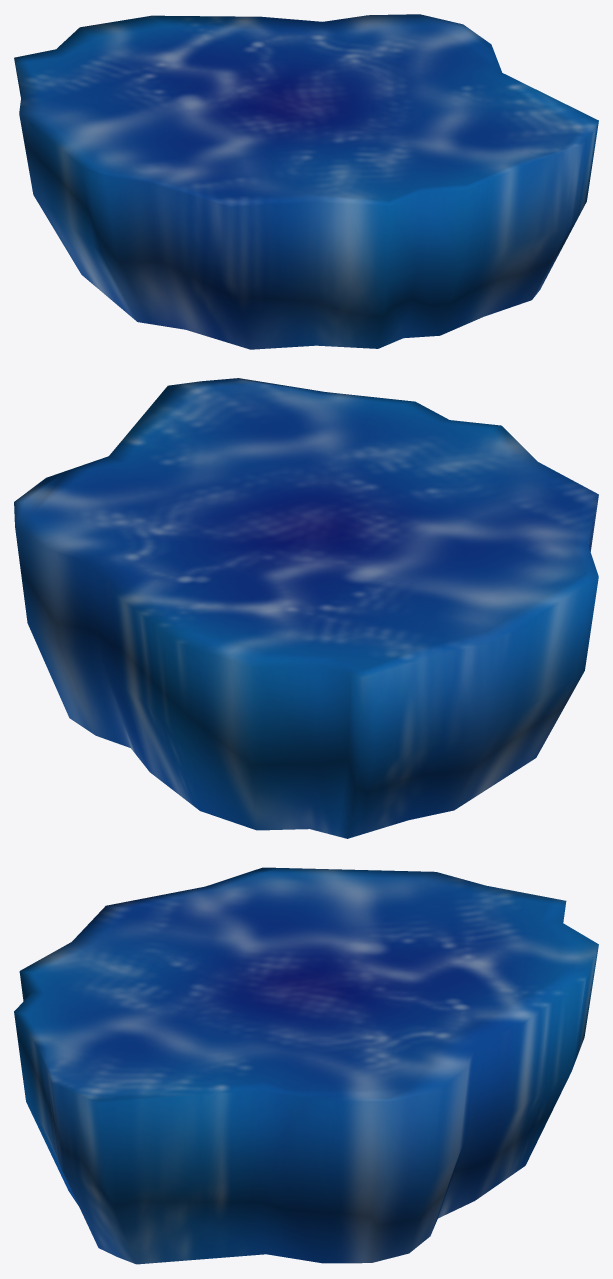
File: Gletscheis_3.fbx
3 views of the same model, one above another, from view 1: azimuth 30°, elevation 25°; view 2: azimuth 150°, elevation 25°; view 3: azimuth 270°, elevation 25° (orthographic). The views are drawn at different scales.
Visible parts, largest first — view 1: Plane; view 2: Plane; view 3: Plane.
Part boxes in pixels (x1,y1,x2,y2): Plane: (14,14,598,349); Plane: (14,378,598,838); Plane: (14,867,598,1264).
Bounding box in the file's own units: 4020 × 1437 × 4211.
1 material, 1 textured.
